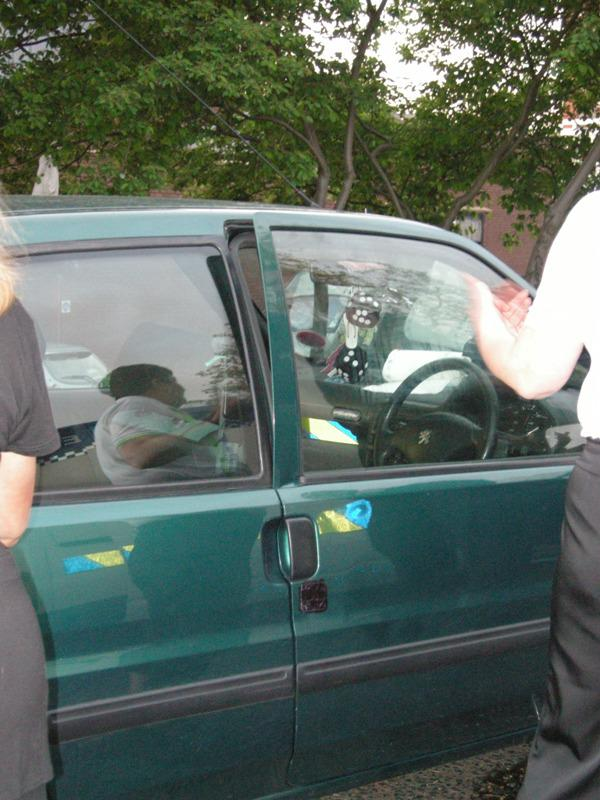doorouter-dent: (255, 228, 597, 722)
